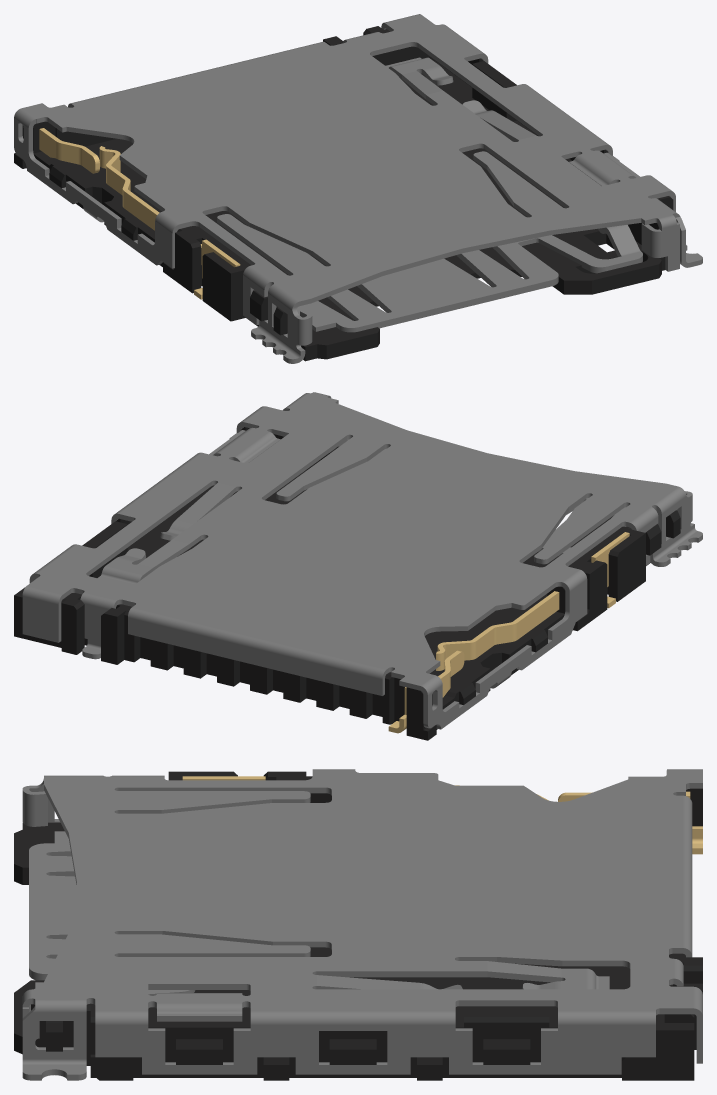
The model's file is microSD_HC_Hirose_DM3AT-SF-PEJM5.glb.
The picture shows the model from 3 angles, top to bottom: view 1: azimuth 30°, elevation 25°; view 2: azimuth 150°, elevation 25°; view 3: azimuth 270°, elevation 25°; orthographic projection. The views are drawn at different scales.
Visible parts, largest first — view 1: =>[0:1:1:3]; view 2: =>[0:1:1:3]; view 3: =>[0:1:1:3].
Part boxes in pixels (<box>): =>[0:1:1:3]: <box>14,14,702,363</box>; =>[0:1:1:3]: <box>14,392,702,740</box>; =>[0:1:1:3]: <box>14,769,702,1080</box>.
Bounding box in the file's own units: 0.0138 × 0.00168 × 0.0162.
